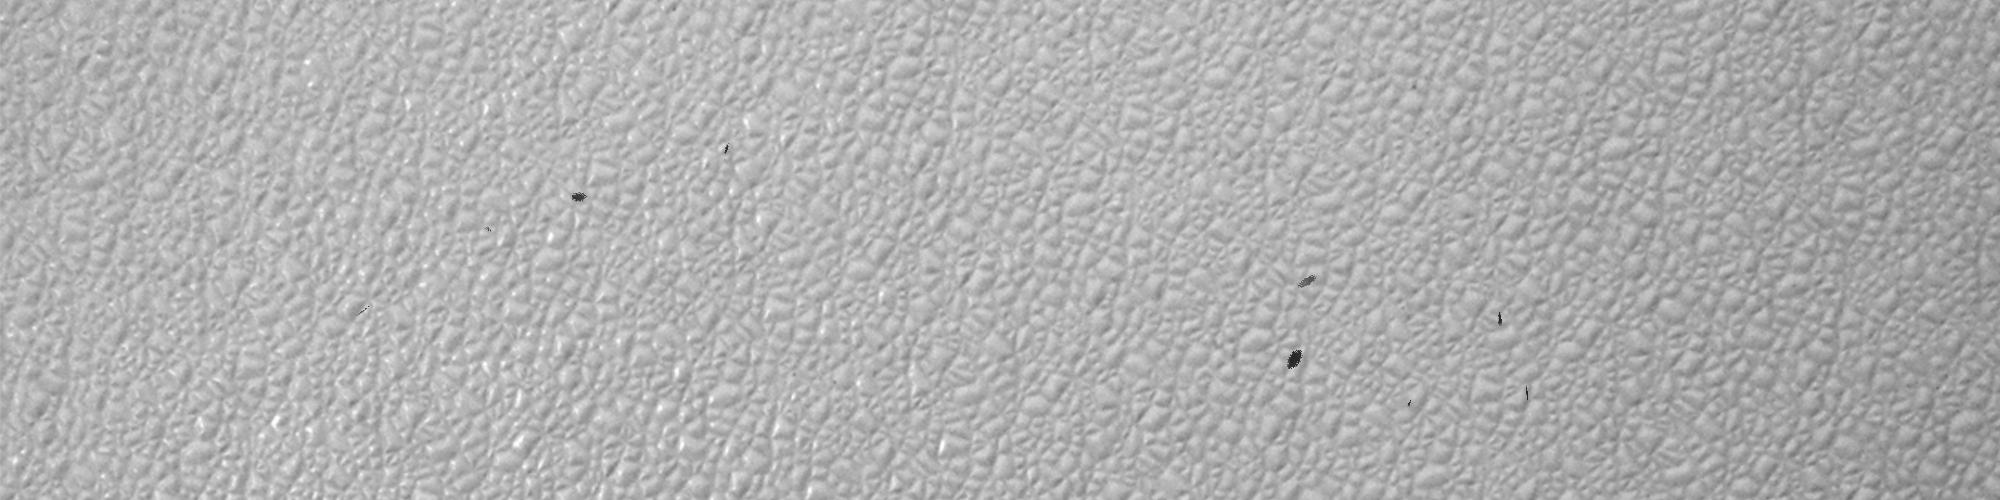Decomposed: (1490, 310, 1522, 338), (1281, 348, 1311, 370), (1519, 381, 1541, 406), (1292, 274, 1323, 290), (568, 187, 591, 204), (351, 304, 372, 318), (483, 219, 501, 236), (717, 142, 735, 156), (1403, 392, 1415, 409)
